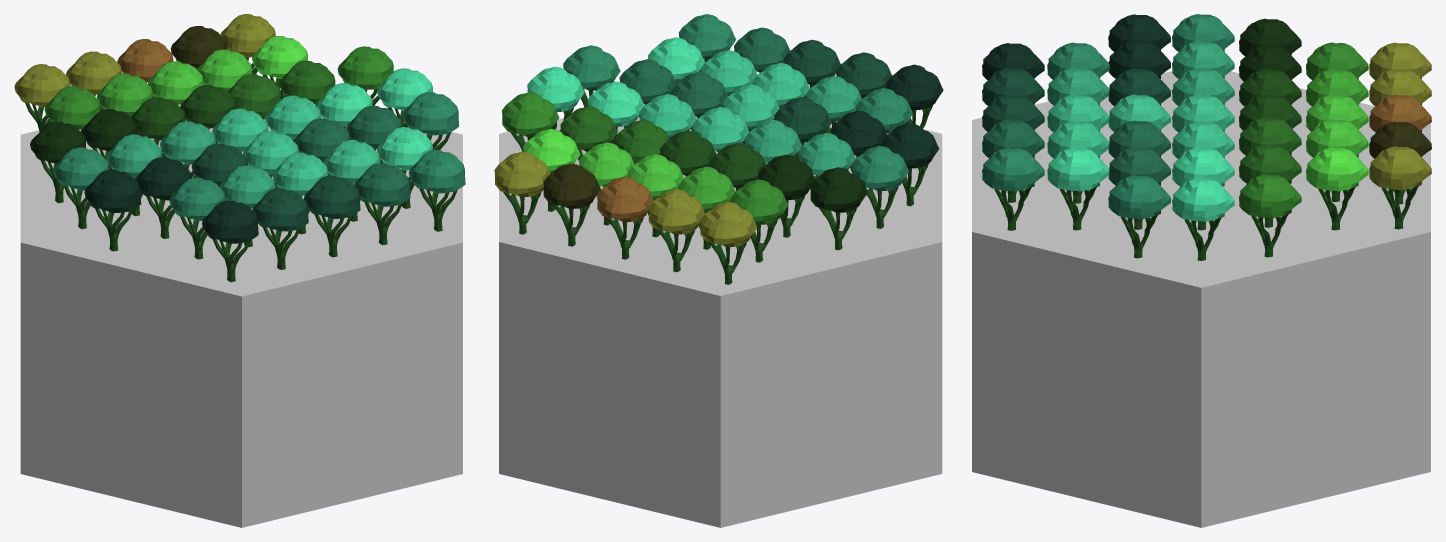
Rendered from ColourPaletteTestObject.fbx.
3 views of the same model, side by side, from view 1: azimuth 30°, elevation 25°; view 2: azimuth 150°, elevation 25°; view 3: azimuth 270°, elevation 25° (orthographic). The views are drawn at different scales.
Visible parts, largest first — view 1: BSurfaceMesh.040; view 2: BSurfaceMesh.040; view 3: BSurfaceMesh.040.
Boxes of the visible parts, box(x1,y1,x2,y2) form: BSurfaceMesh.040: box(14, 14, 465, 527); BSurfaceMesh.040: box(494, 14, 943, 527); BSurfaceMesh.040: box(972, 14, 1431, 527).
Size of the model in its own units: 1000 by 666 by 868.
